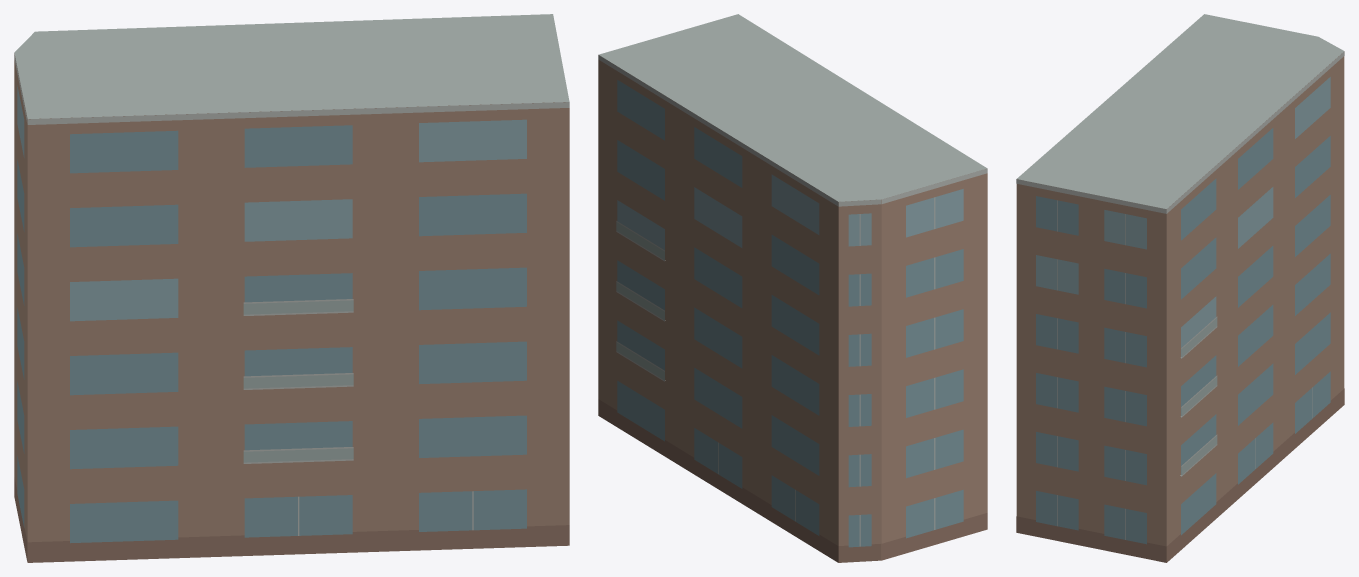
Rendered from survey-upis-32553338.glb.
3 views of the same model, side by side, from view 1: azimuth 30°, elevation 25°; view 2: azimuth 150°, elevation 25°; view 3: azimuth 270°, elevation 25° (orthographic). The views are drawn at different scales.
Parts seen in each view (by area): view 1: survey-upis-32553338.tmp; view 2: survey-upis-32553338.tmp; view 3: survey-upis-32553338.tmp.
Boxes of the visible parts, left/top/right/bottom form: survey-upis-32553338.tmp: left=14, top=14, right=569, bottom=562; survey-upis-32553338.tmp: left=598, top=14, right=987, bottom=562; survey-upis-32553338.tmp: left=1016, top=14, right=1344, bottom=562.
Size of the model in its own units: 21.67 by 18.3 by 15.39.
